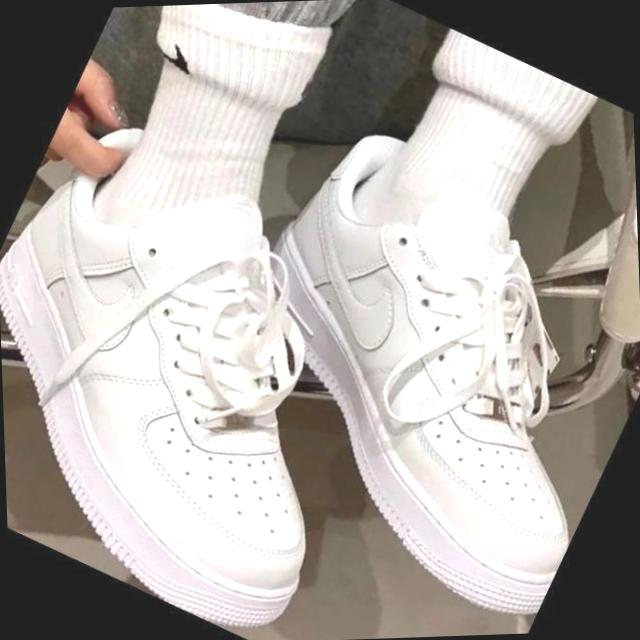nike_original_airforce: (159, 94, 640, 637), (0, 94, 451, 640)
